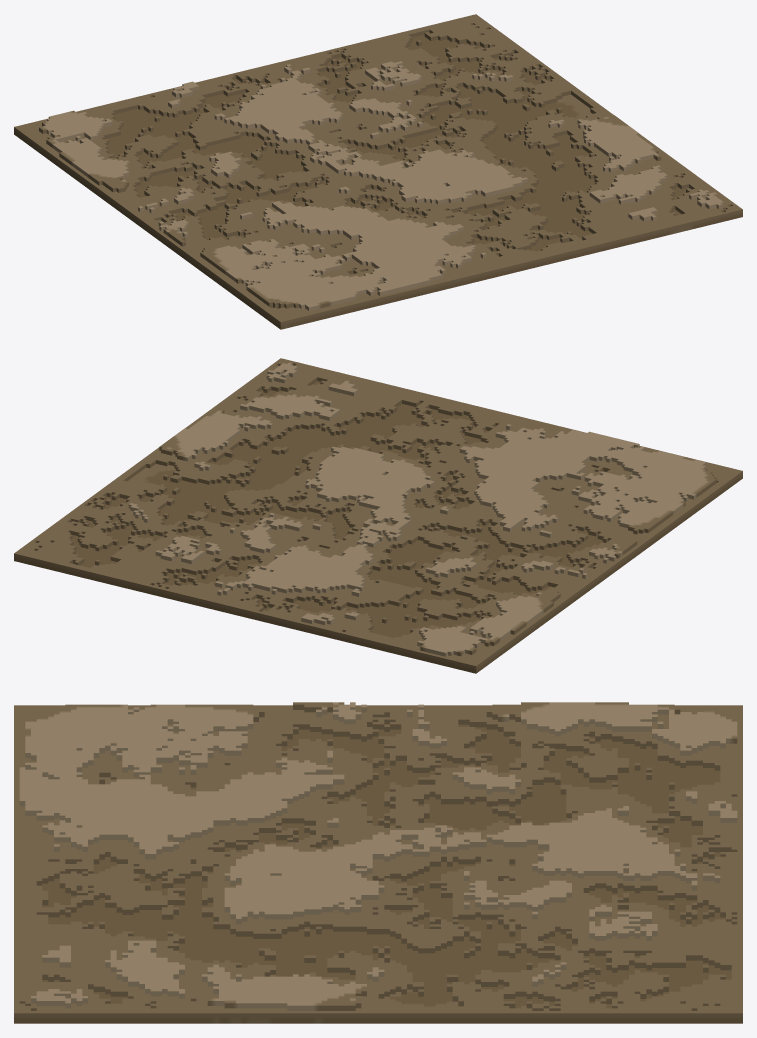
Rendered from floortile_brown.fbx.
3 views of the same model, one above another, from view 1: azimuth 30°, elevation 25°; view 2: azimuth 150°, elevation 25°; view 3: azimuth 270°, elevation 25° (orthographic). The views are drawn at different scales.
Parts seen in each view (by area): view 1: floortile_brown; view 2: floortile_brown; view 3: floortile_brown.
Boxes of the visible parts, x1,y1,x2,y2 form: floortile_brown: (14, 14, 742, 329); floortile_brown: (14, 358, 742, 673); floortile_brown: (14, 702, 742, 1023).
Bounding box in the file's own units: 128 × 3 × 128.
1 material, 1 textured.
